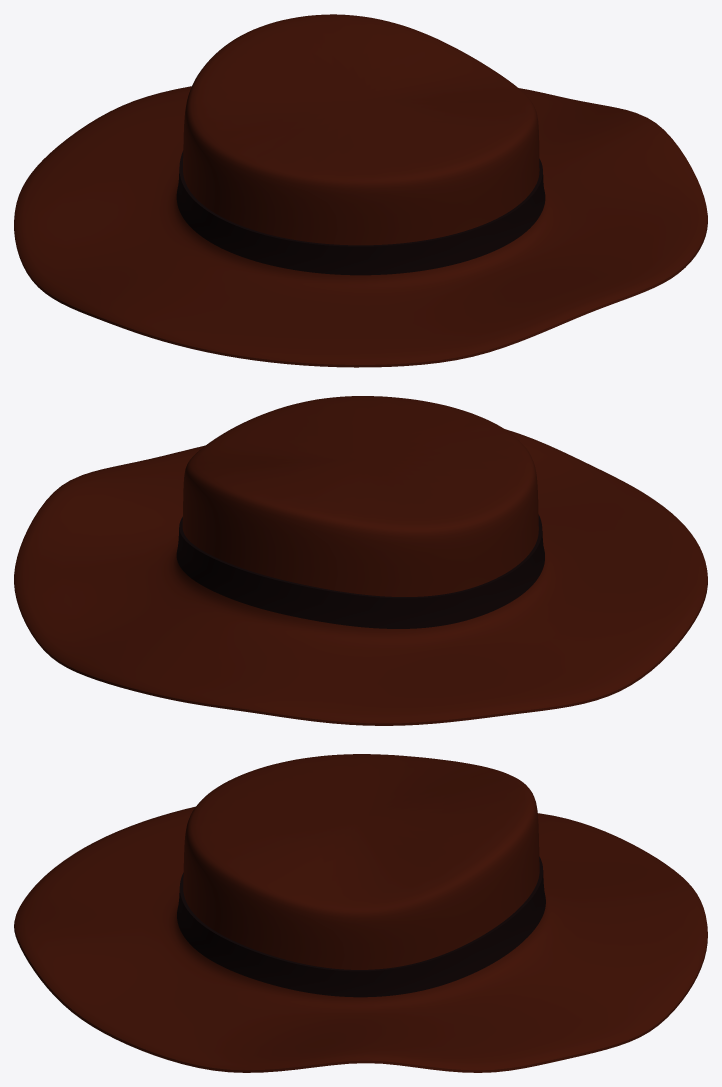
The model's file is hat.obj.
3 renders of one model, top to bottom at view 1: azimuth 30°, elevation 25°; view 2: azimuth 150°, elevation 25°; view 3: azimuth 270°, elevation 25°, orthographic.
Visible parts, largest first — view 1: Circle, Circle.001; view 2: Circle, Circle.001; view 3: Circle, Circle.001.
Part boxes in pixels (x1=…): Circle: x1=14, y1=14, x2=707, y2=367; Circle.001: x1=176, y1=150, x2=545, y2=275; Circle: x1=14, y1=396, x2=707, y2=725; Circle.001: x1=176, y1=515, x2=544, y2=628; Circle: x1=14, y1=754, x2=707, y2=1072; Circle.001: x1=177, y1=856, x2=545, y2=997.
Bounding box in the file's own units: 1.98 × 0.4792 × 1.98.
